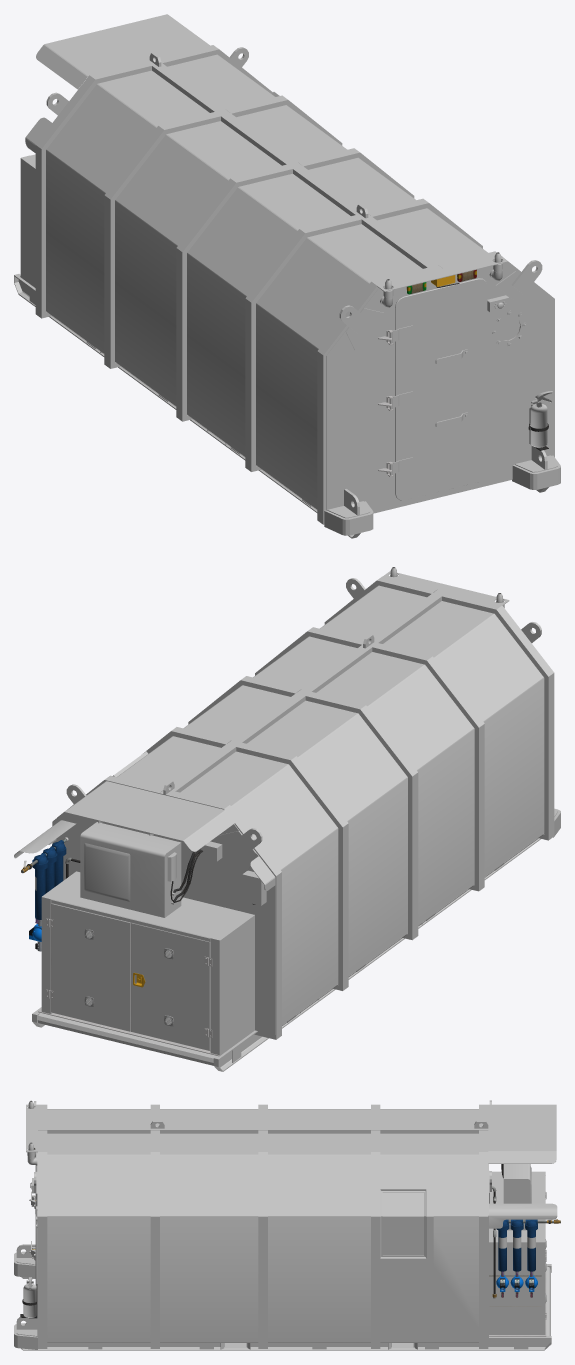
The model's file is HRM_12AL_v5.FBX.
3 views of the same model, one above another, from view 1: azimuth 30°, elevation 25°; view 2: azimuth 150°, elevation 25°; view 3: azimuth 270°, elevation 25° (orthographic). The views are drawn at different scales.
Visible parts, largest first — view 1: Refuge, Refuge_FrontDoor_Edit normalsFix, Object001, FireExtinguisher_Body; view 2: Refuge; view 3: Refuge, FireExtinguisher_Body.
Boxes of the visible parts, x1,y1,x2,y2 form: Refuge: (14, 14, 560, 538); Refuge_FrontDoor_Edit normalsFix: (395, 278, 487, 500); Object001: (389, 325, 413, 475); FireExtinguisher_Body: (530, 391, 553, 447); Refuge: (14, 567, 560, 1071); Refuge: (14, 1100, 560, 1350); FireExtinguisher_Body: (23, 1277, 36, 1317).
Size of the model in its own units: 2.14 by 2.17 by 5.6.
